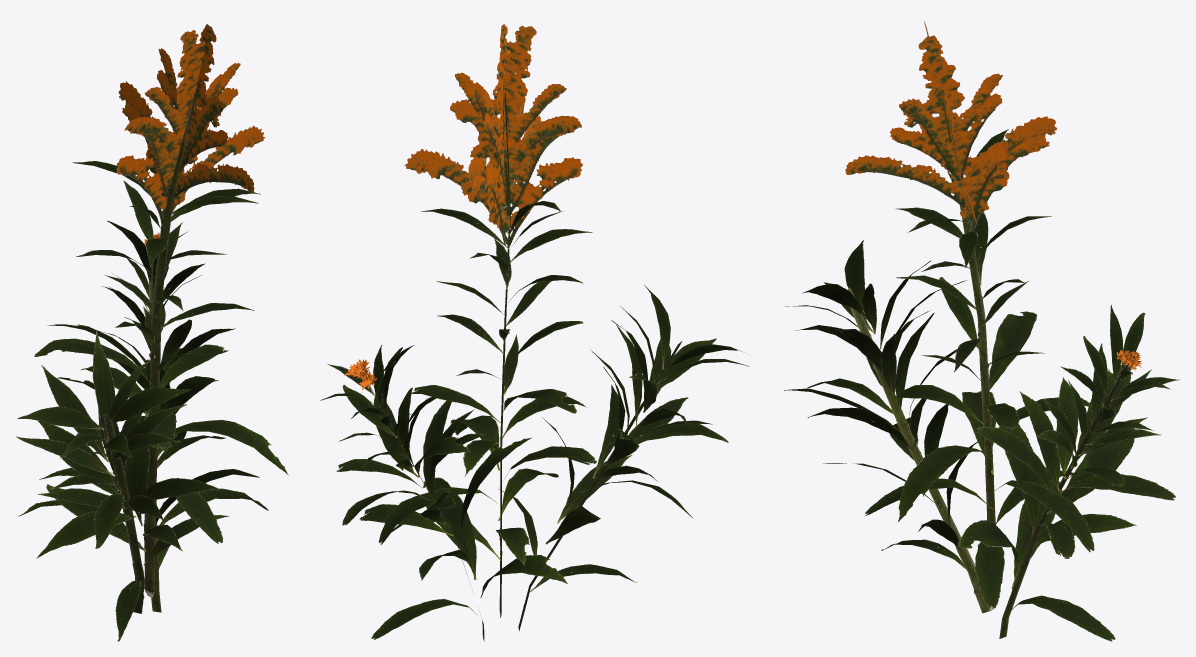
The model's file is GoldenRodFlowerClumpHighDetail.fbx.
3 views of the same model, side by side, from view 1: azimuth 30°, elevation 25°; view 2: azimuth 150°, elevation 25°; view 3: azimuth 270°, elevation 25° (orthographic). The views are drawn at different scales.
Parts seen in each view (by area): view 1: _txtd_VarD_LOD2; view 2: _txtd_VarD_LOD2; view 3: _txtd_VarD_LOD2.
Boxes of the visible parts, <box> form: _txtd_VarD_LOD2: <box>16,24,288,641</box>; _txtd_VarD_LOD2: <box>320,24,749,641</box>; _txtd_VarD_LOD2: <box>784,21,1180,641</box>.
Size of the model in its own units: 50.56 by 94.35 by 54.9.
